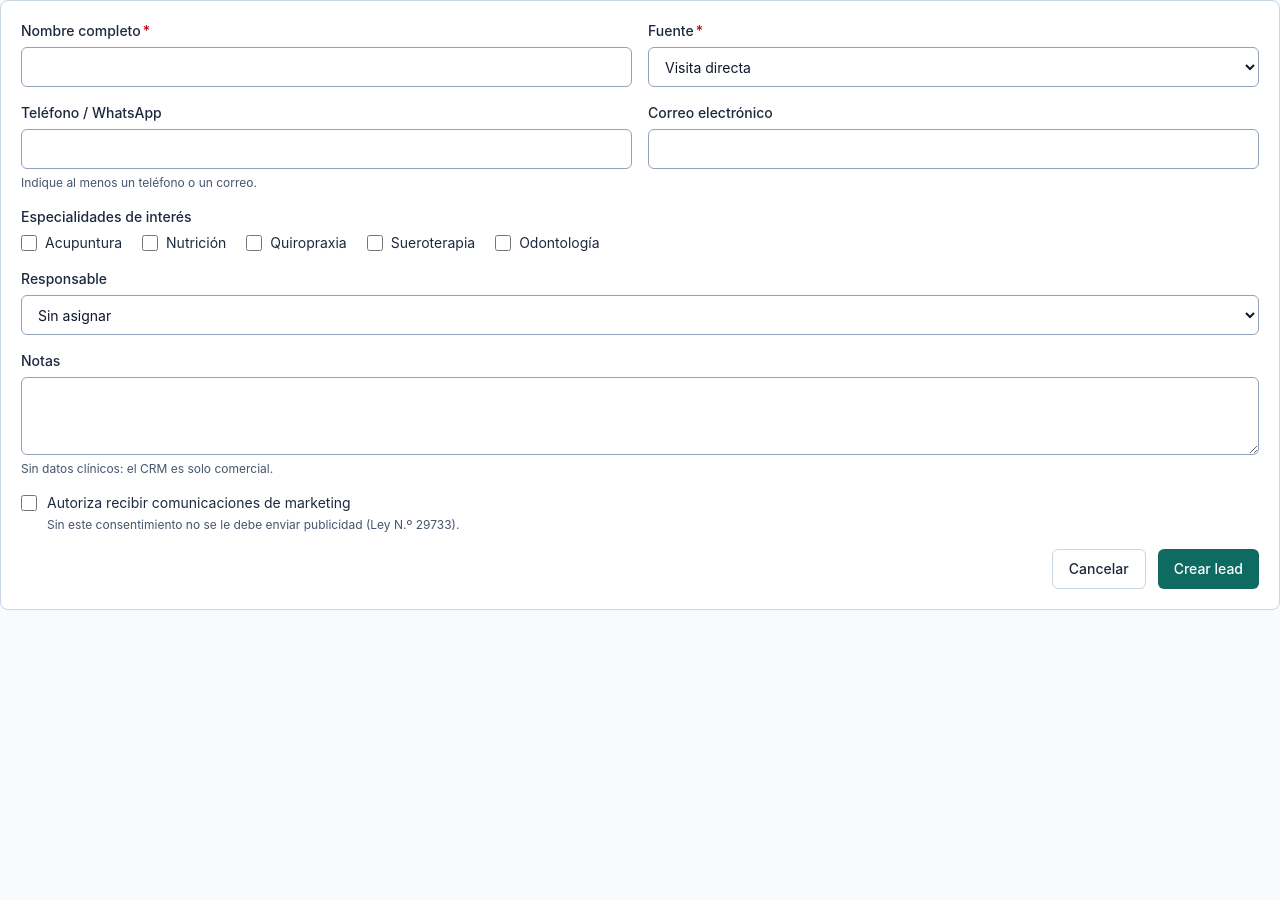
LeadCreatePanel › exige teléfono o correo antes de enviar
In the field labelled "Nombre completo*": (326, 67) [21, 47, 632, 87], type "Ana Soto"
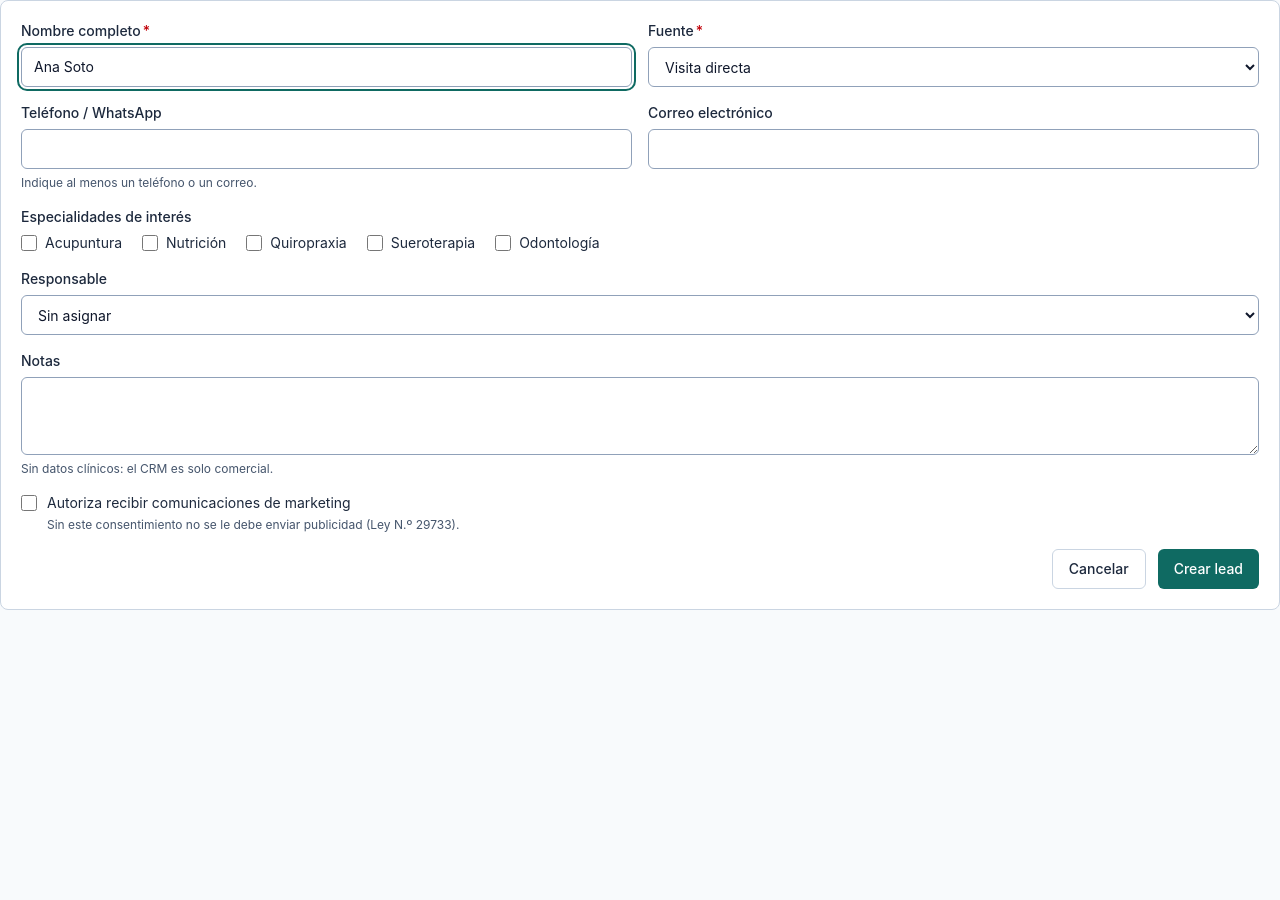
Click the button "Crear lead": (1208, 569) [1158, 549, 1259, 589]
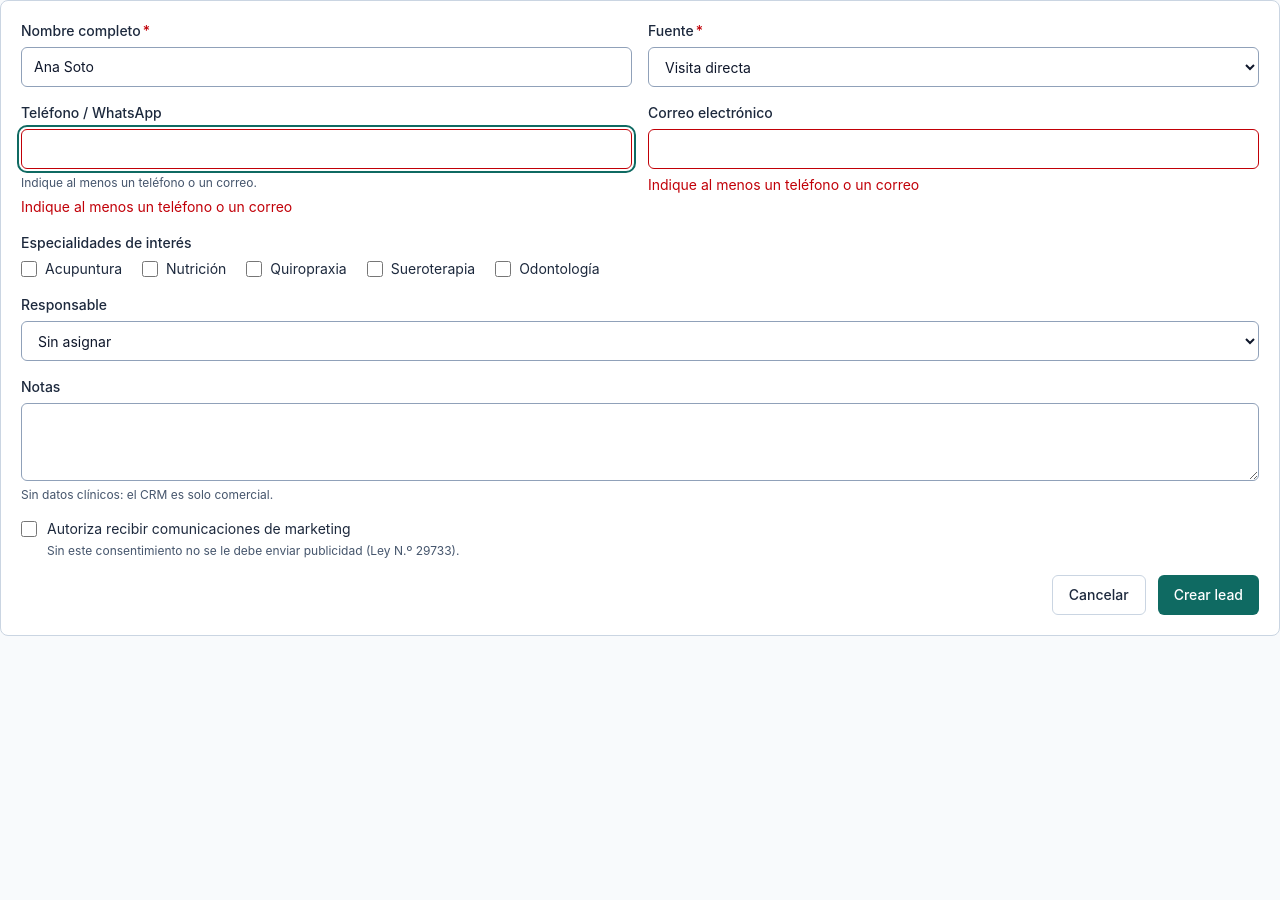
Expected: the text "Indique al menos un teléfono o un correo" below "Teléfono / WhatsApp" is shown, [21, 198, 292, 215]
